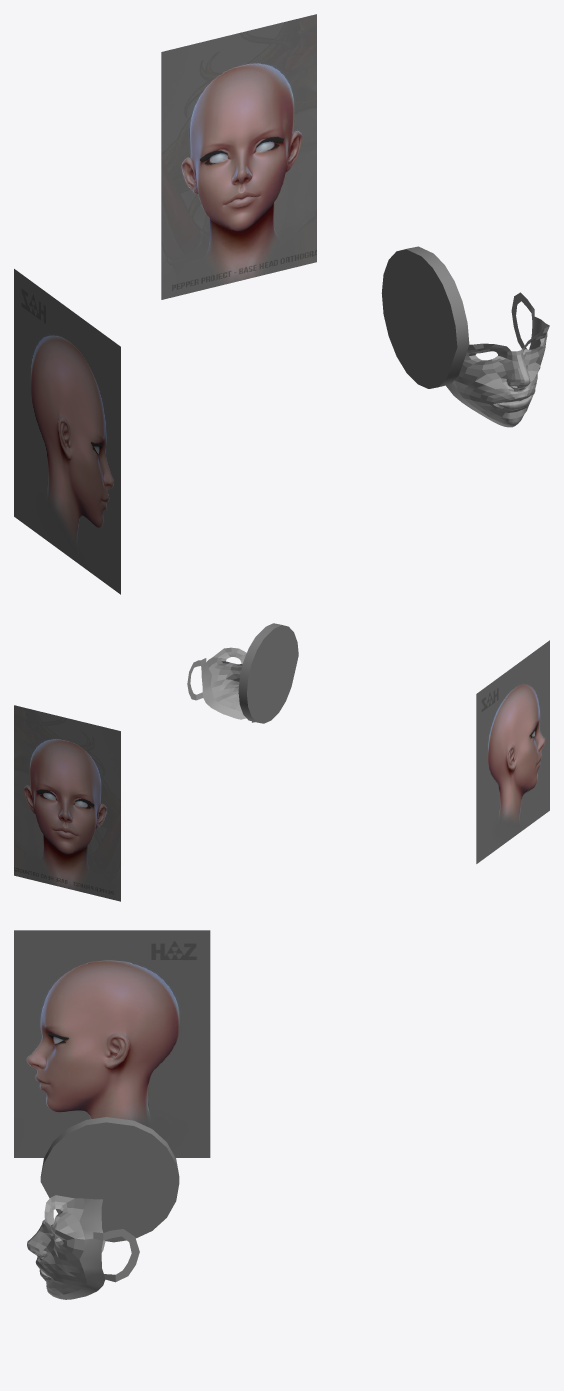
3 renders of one model, top to bottom at view 1: azimuth 30°, elevation 25°; view 2: azimuth 150°, elevation 25°; view 3: azimuth 270°, elevation 25°, orthographic. The views are drawn at different scales.
Visible parts, largest first — view 1: Mona_7:pCube1, Mona_7:pCube2, Mona_7:Mona_7:pCylinder3, Mona_7:Mona_7:pCylinder2; view 2: Mona_7:pCube1, Mona_7:pCube2, Mona_7:Mona_7:pCylinder3, Mona_7:Mona_7:pCylinder2; view 3: Mona_7:pCube2, Mona_7:Mona_7:pCylinder3, Mona_7:Mona_7:pCylinder2.
Boxes of the visible parts, <box> form: Mona_7:pCube1: <box>161,14,316,299</box>; Mona_7:pCube2: <box>14,269,120,594</box>; Mona_7:Mona_7:pCylinder3: <box>381,246,469,388</box>; Mona_7:Mona_7:pCylinder2: <box>446,292,549,427</box>; Mona_7:pCube1: <box>14,705,120,901</box>; Mona_7:pCube2: <box>476,640,549,863</box>; Mona_7:Mona_7:pCylinder3: <box>238,623,298,723</box>; Mona_7:Mona_7:pCylinder2: <box>187,647,254,722</box>; Mona_7:pCube2: <box>14,930,210,1157</box>; Mona_7:Mona_7:pCylinder3: <box>40,1117,179,1242</box>; Mona_7:Mona_7:pCylinder2: <box>27,1195,139,1299</box>.
Bounding box in the file's own units: 118 × 57.4 × 122.
3 materials, 1 textured.
